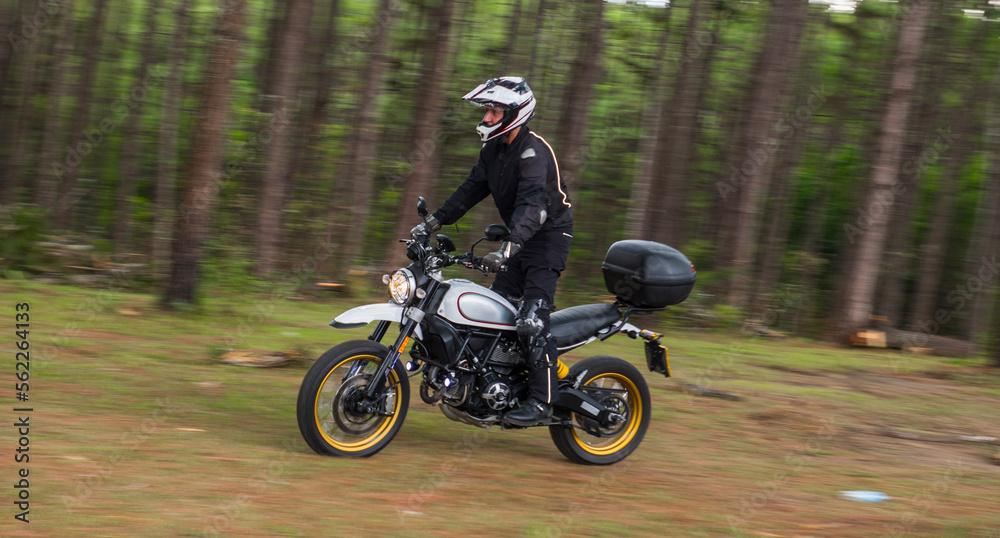helmet: (461, 75, 538, 144)
